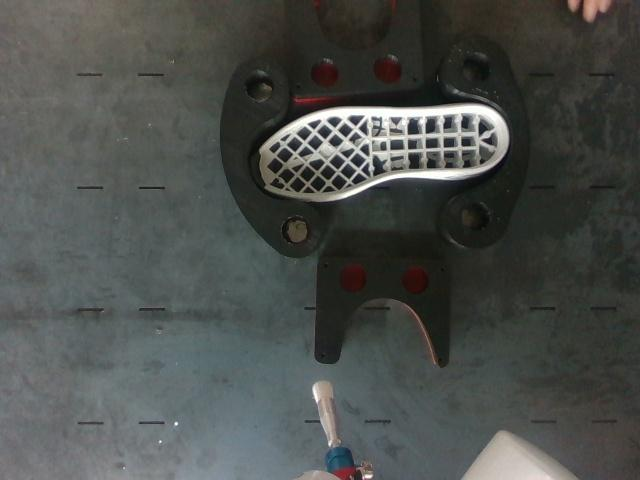shoes: (252, 107, 508, 199)
